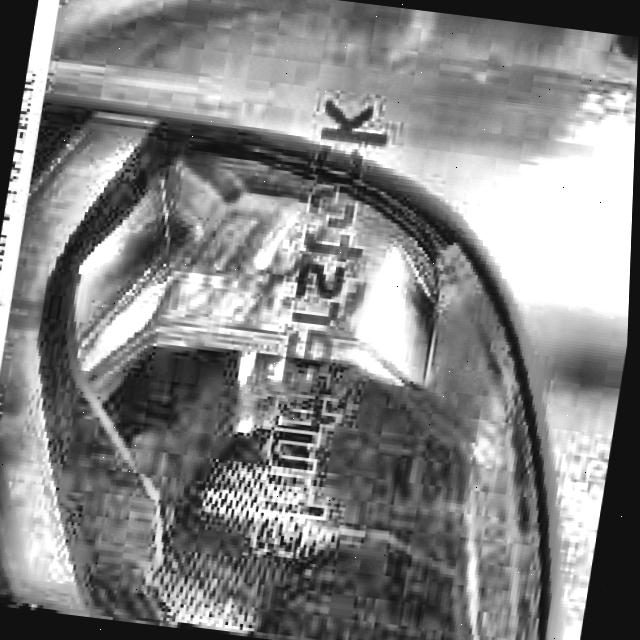tail_lamp: (69, 304, 378, 602), (142, 137, 443, 350)
